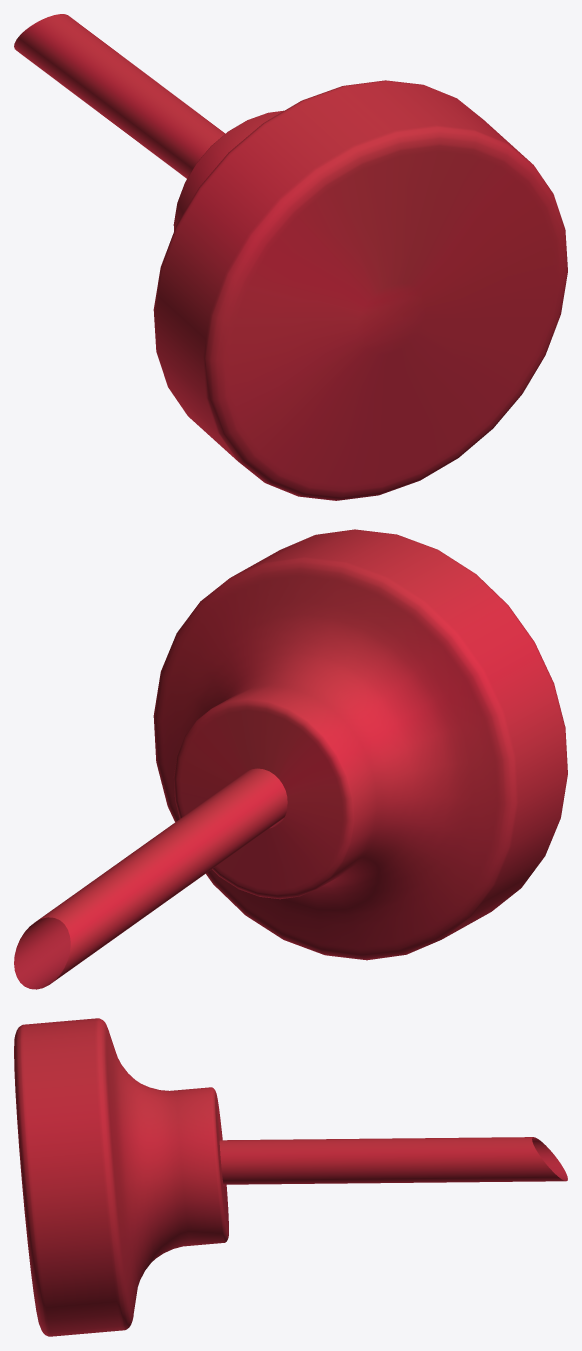
File: palanca.obj
3 renders of one model, top to bottom at view 1: azimuth 30°, elevation 25°; view 2: azimuth 150°, elevation 25°; view 3: azimuth 270°, elevation 25°, orthographic. The views are drawn at different scales.
Visible parts, largest first — view 1: Object; view 2: Object; view 3: Object.
Part boxes in pixels (<box>): Object: <box>14,14,567,500</box>; Object: <box>14,529,567,989</box>; Object: <box>14,1018,567,1336</box>.
Size of the model in its own units: 0.881 by 0.8971 by 1.56.
